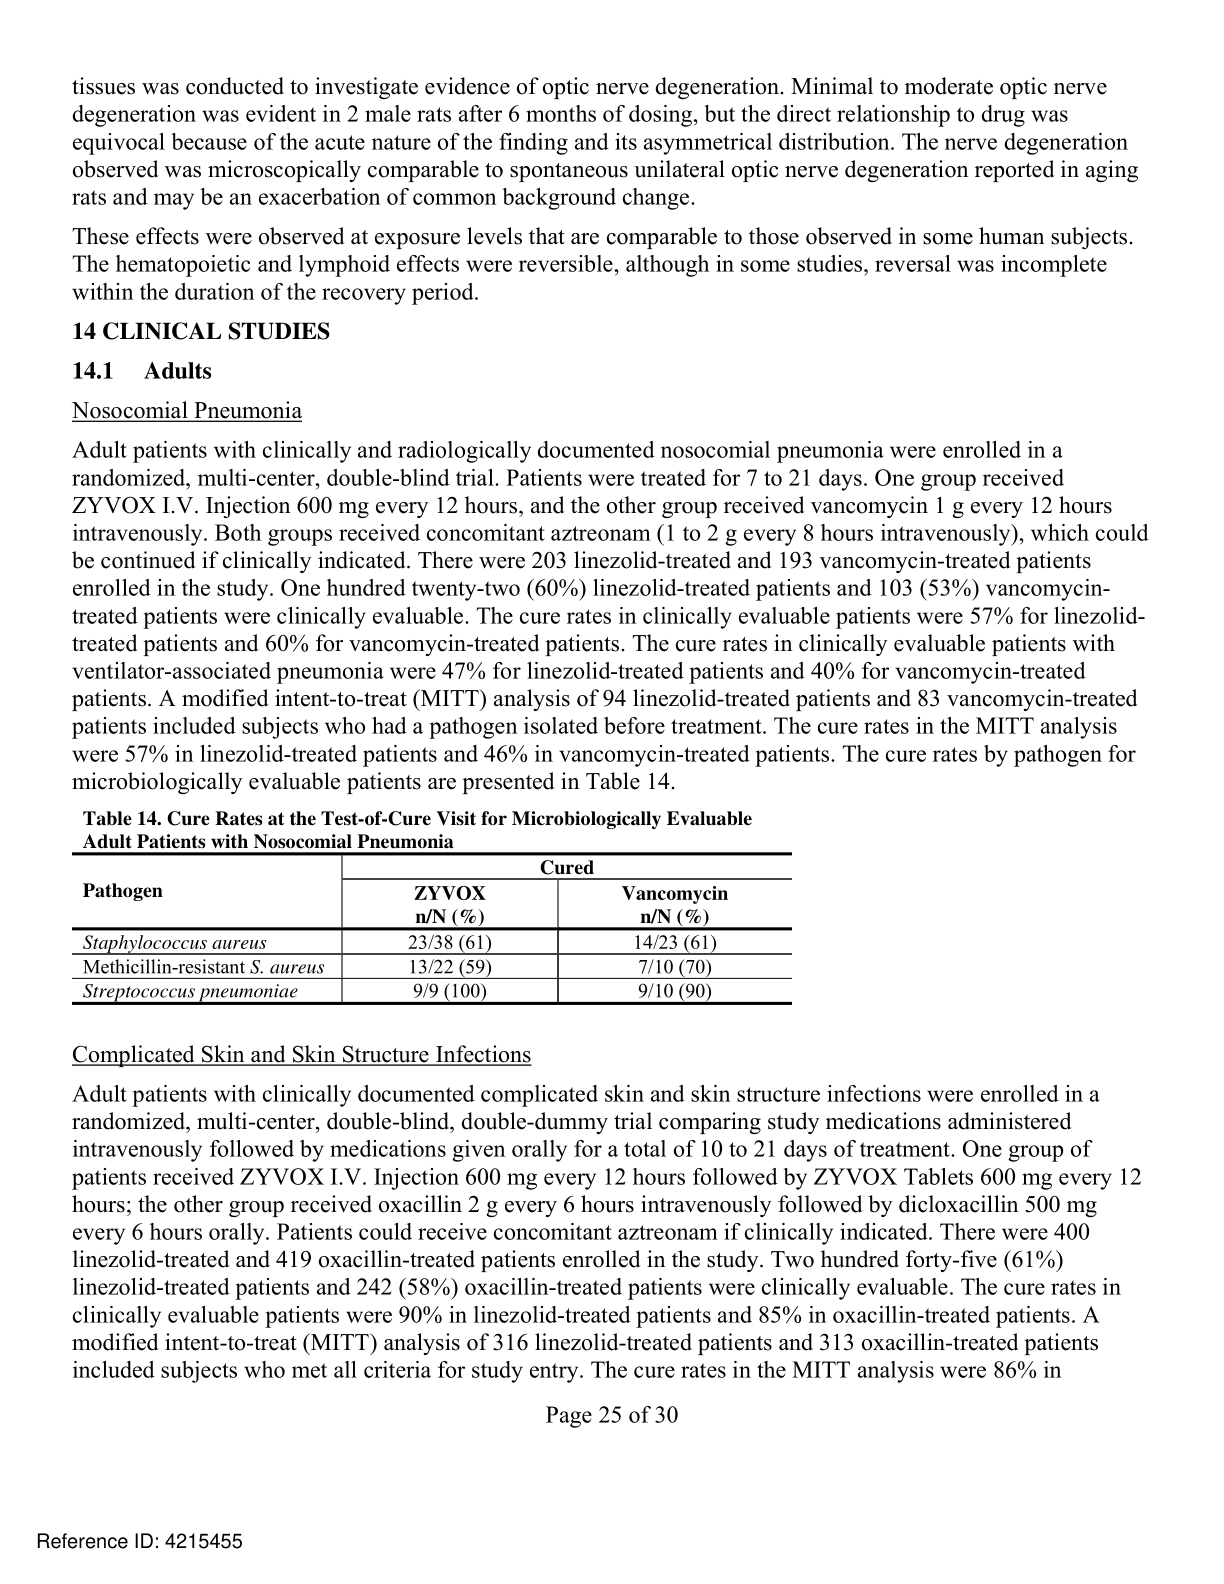partial_lined_merged_cells: (72, 851, 793, 1005)
